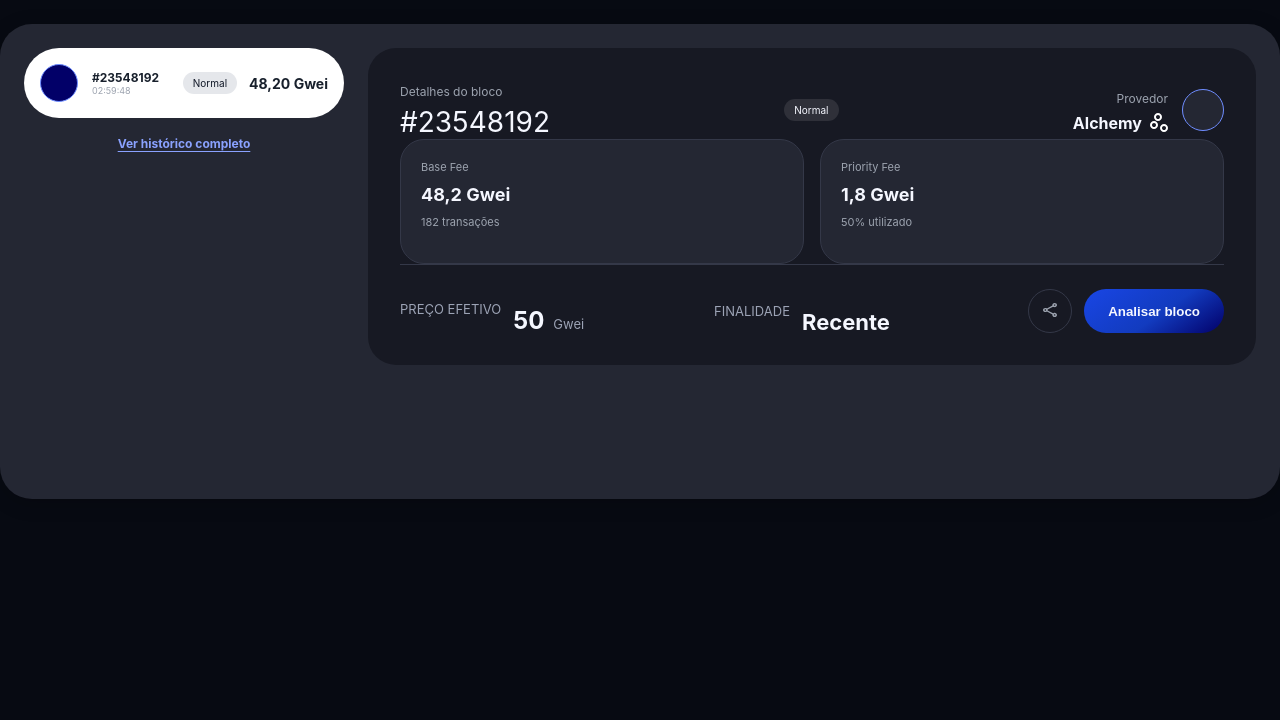
recent block actions › copies the link when native sharing is rejected
Click the button named "compartilhar bloco" at (1050, 311), box [1028,289,1072,333]
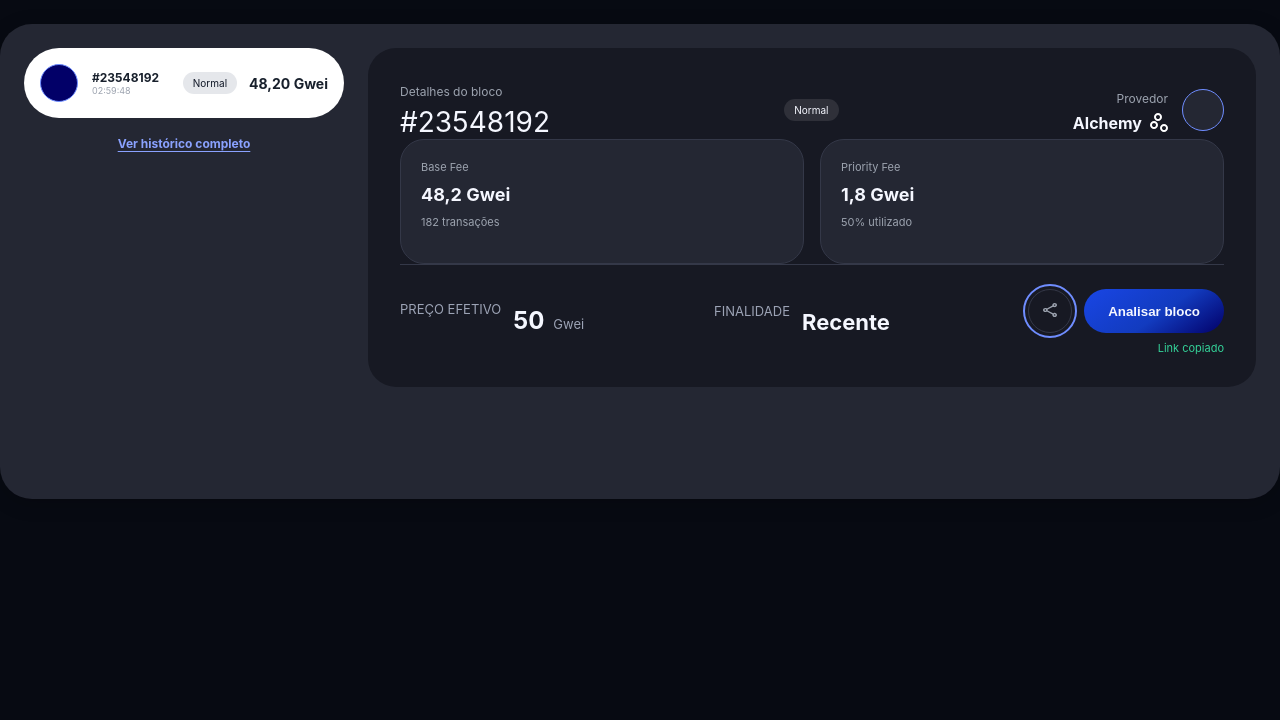
Expected: the text "Link copiado" is shown, [1158,341,1224,355]
